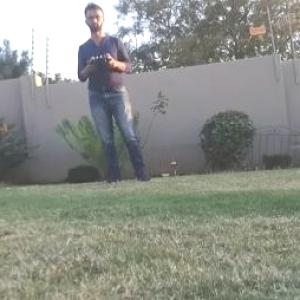follow: (72, 0, 158, 188)
